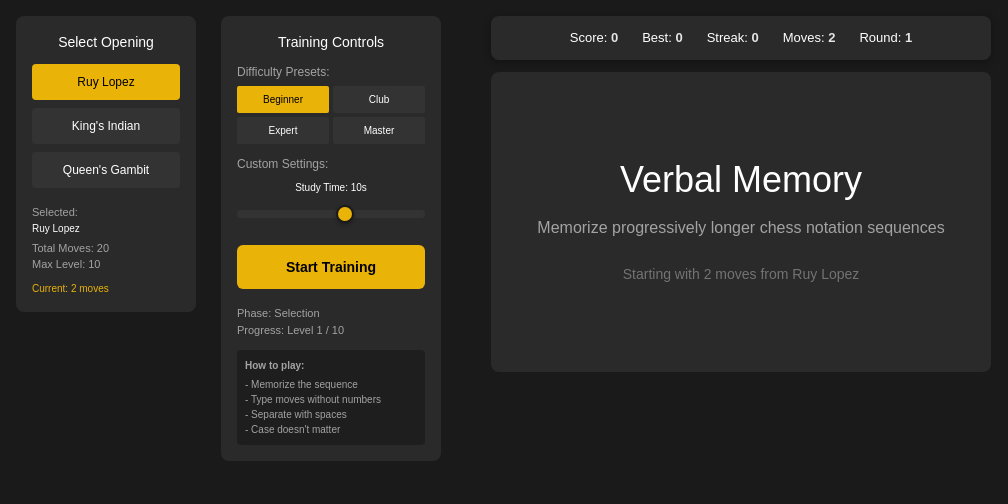
Test case: SanMemoryPage › transitions to study phase when Start Training is clicked
What coordinates should you click on to do the following:
click the button "Start Training"
I would click on:
 (331, 267)
Its box is [237, 245, 425, 289].
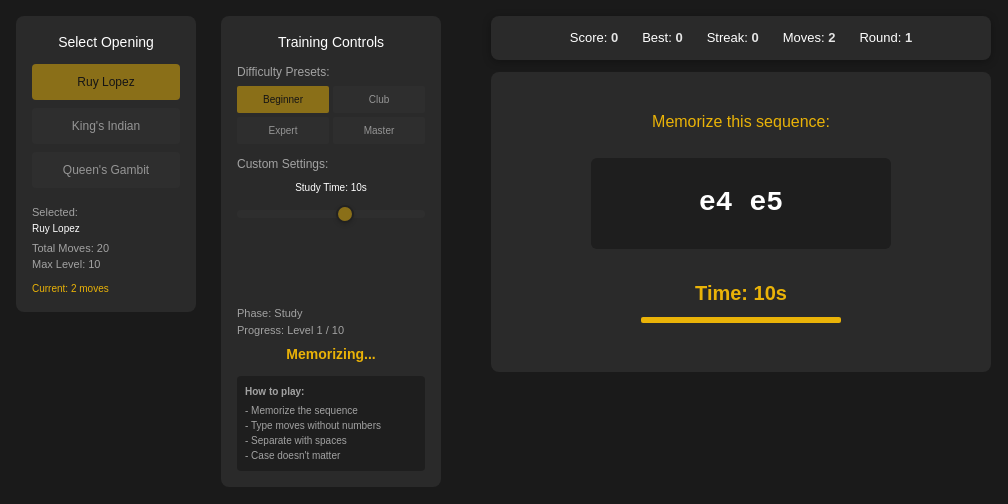
expect the text "Memorize this sequence:" is shown: met, box [652, 113, 830, 130]
